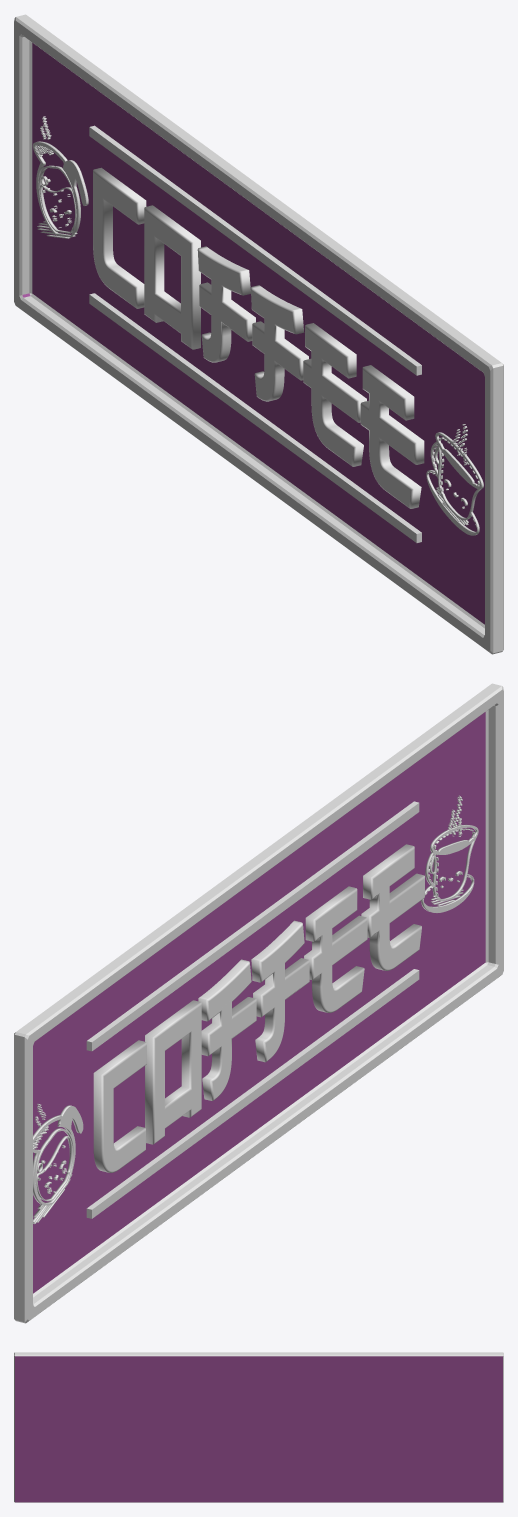
File: uploads_files_3650381_Cyberpunk+Coffee+Sign.fbx
3 views of the same model, one above another, from view 1: azimuth 30°, elevation 25°; view 2: azimuth 150°, elevation 25°; view 3: azimuth 270°, elevation 25° (orthographic). The views are drawn at different scales.
Parts seen in each view (by area): view 1: Coffee Sign; view 2: Coffee Sign; view 3: Coffee Sign.
Part boxes in pixels (left/top/right/bottom): Coffee Sign: left=14, top=14, right=503, bottom=654; Coffee Sign: left=14, top=683, right=503, bottom=1323; Coffee Sign: left=14, top=1352, right=503, bottom=1502.
Size of the model in its own units: 10 by 200 by 600.
